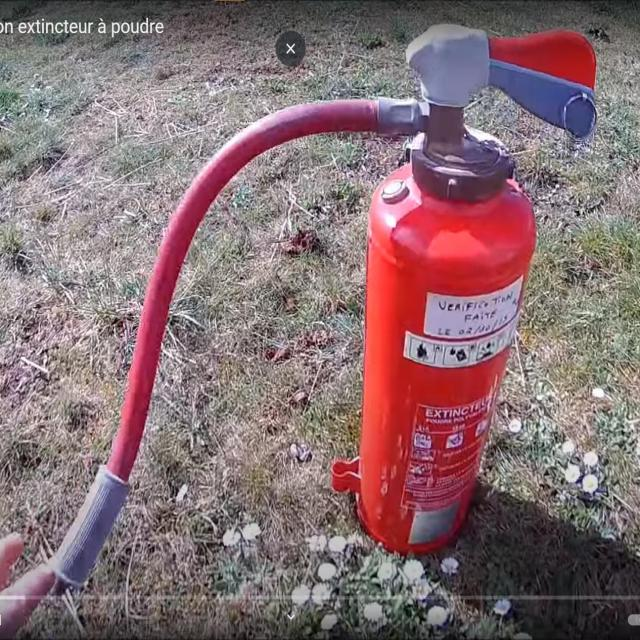fire_extinguisher: (0, 18, 605, 639)
